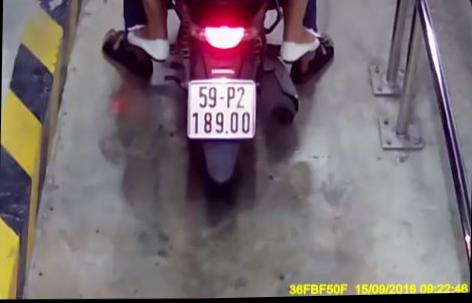LP: (186, 78, 258, 141)
